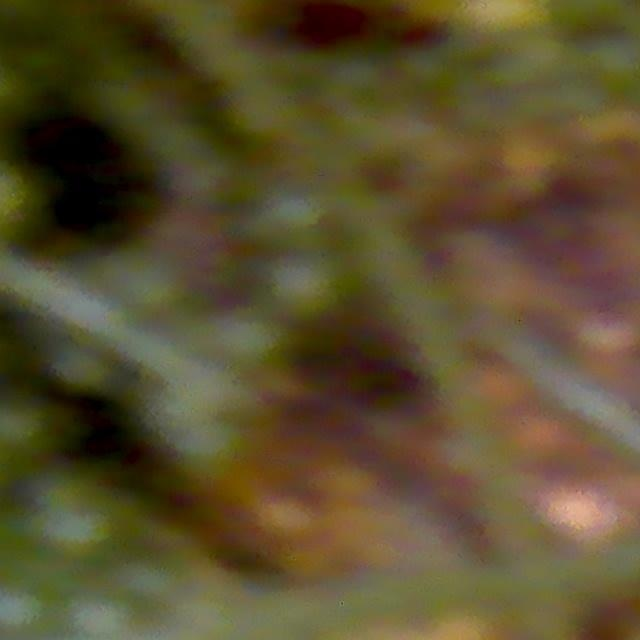SeaGrape: (32, 472, 125, 564), (268, 248, 347, 324), (0, 398, 58, 470), (52, 595, 125, 640)
